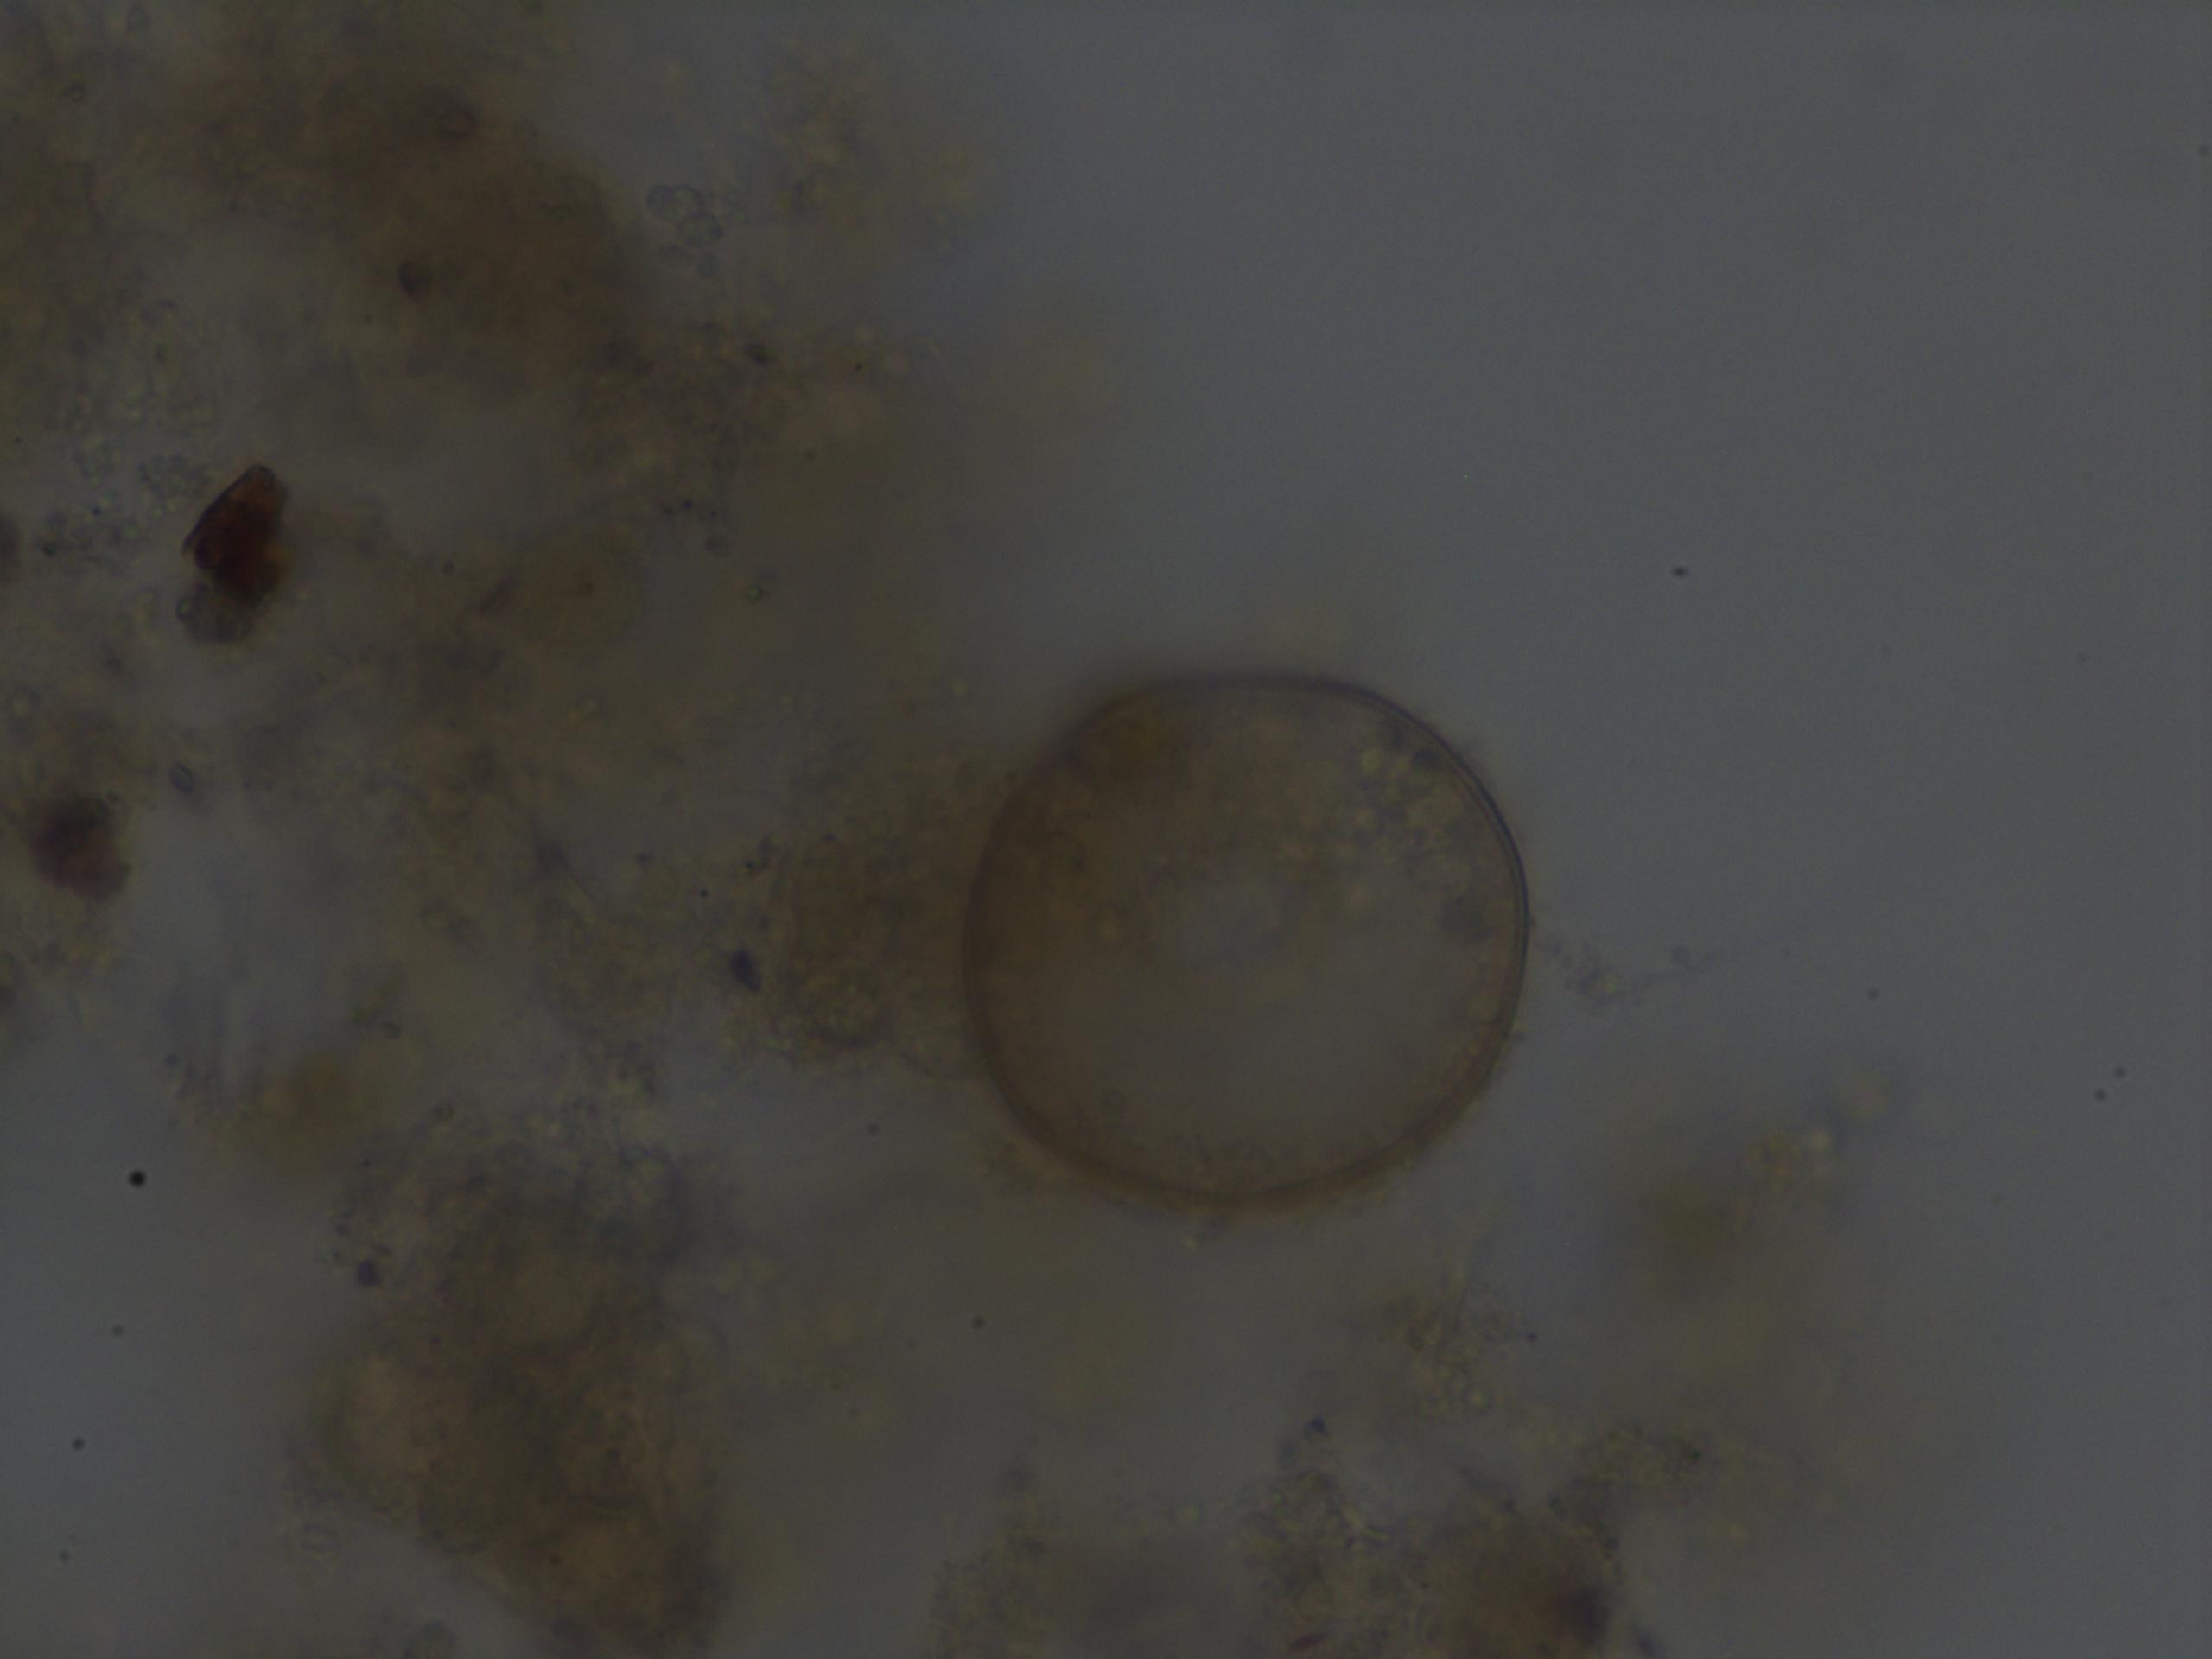protozoa: (935, 648, 1550, 1225)
